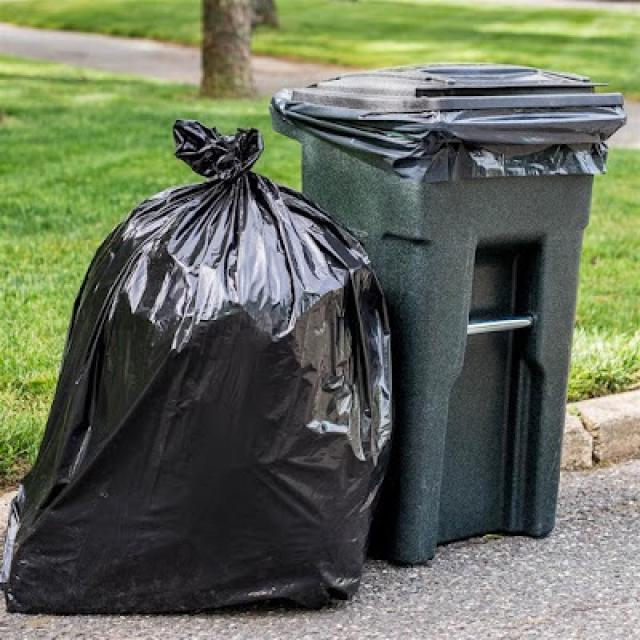sampah-detection: (3, 115, 394, 622)
